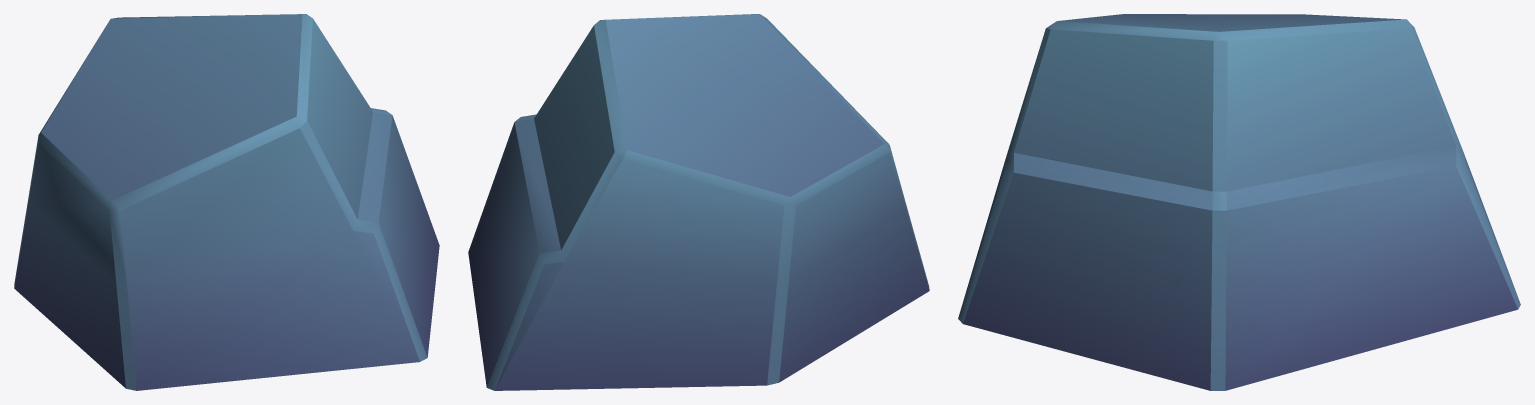
The model's file is Rock-3-4.fbx.
3 views of the same model, side by side, from view 1: azimuth 30°, elevation 25°; view 2: azimuth 150°, elevation 25°; view 3: azimuth 270°, elevation 25° (orthographic). The views are drawn at different scales.
Parts seen in each view (by area): view 1: Rock-3-4; view 2: Rock-3-4; view 3: Rock-3-4.
Part boxes in pixels (x1,y1,x2,y2): Rock-3-4: (14,14,439,390); Rock-3-4: (468,14,929,390); Rock-3-4: (958,14,1520,390).
Size of the model in its own units: 177 by 115 by 205.
